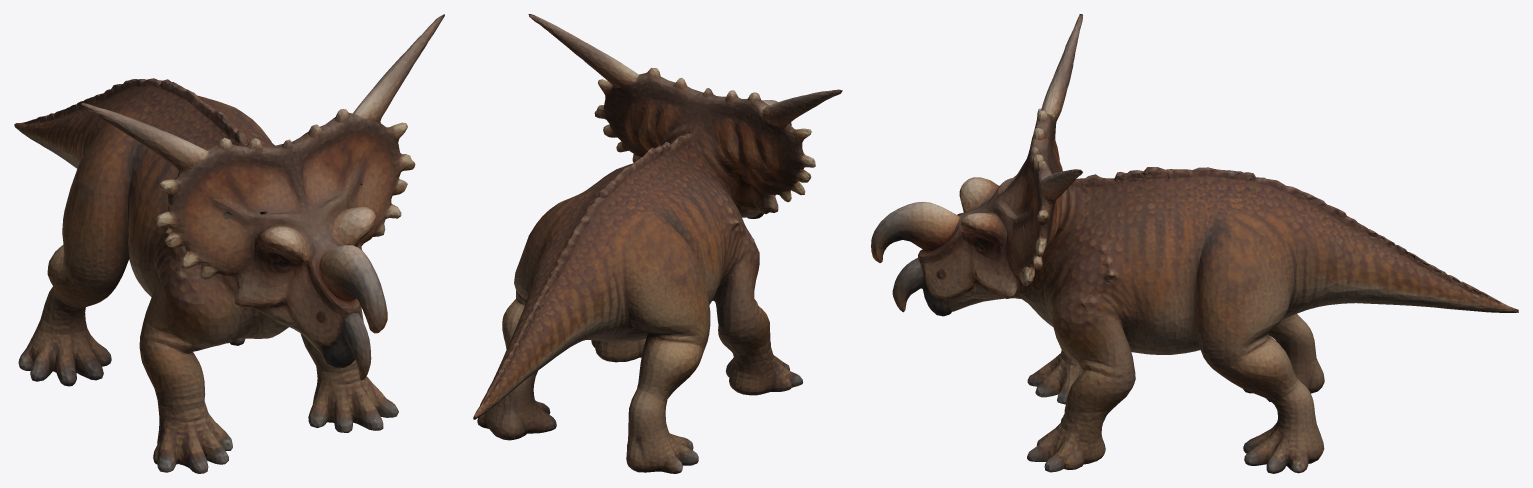
The picture shows the model from 3 angles, left to right: view 1: azimuth 30°, elevation 25°; view 2: azimuth 150°, elevation 25°; view 3: azimuth 270°, elevation 25°; orthographic projection. The views are drawn at different scales.
Visible parts, largest first — view 1: world; view 2: world; view 3: world.
Boxes of the visible parts, x1=… form: world: x1=14, y1=14, x2=444, y2=473; world: x1=473, y1=14, x2=842, y2=473; world: x1=871, y1=14, x2=1518, y2=473.
Size of the model in its own units: 3.47 by 3.4 by 6.
Materials: 1 (1 with a texture image).
